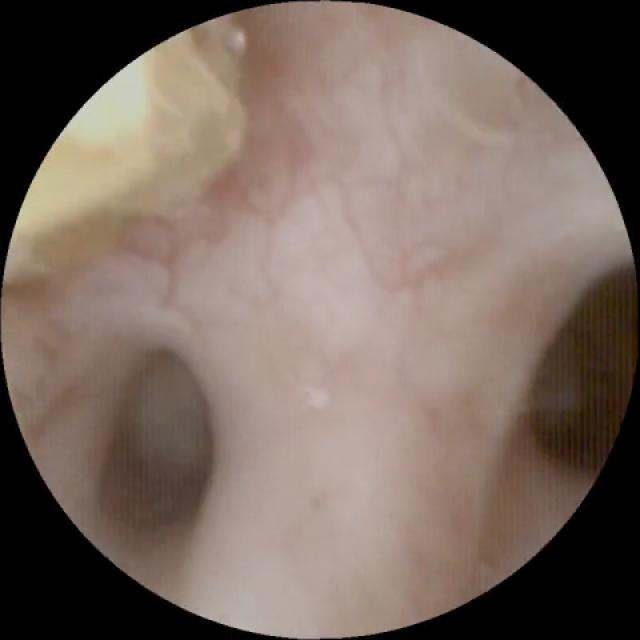stone: (27, 20, 243, 268)
tissue: (9, 9, 621, 627)
